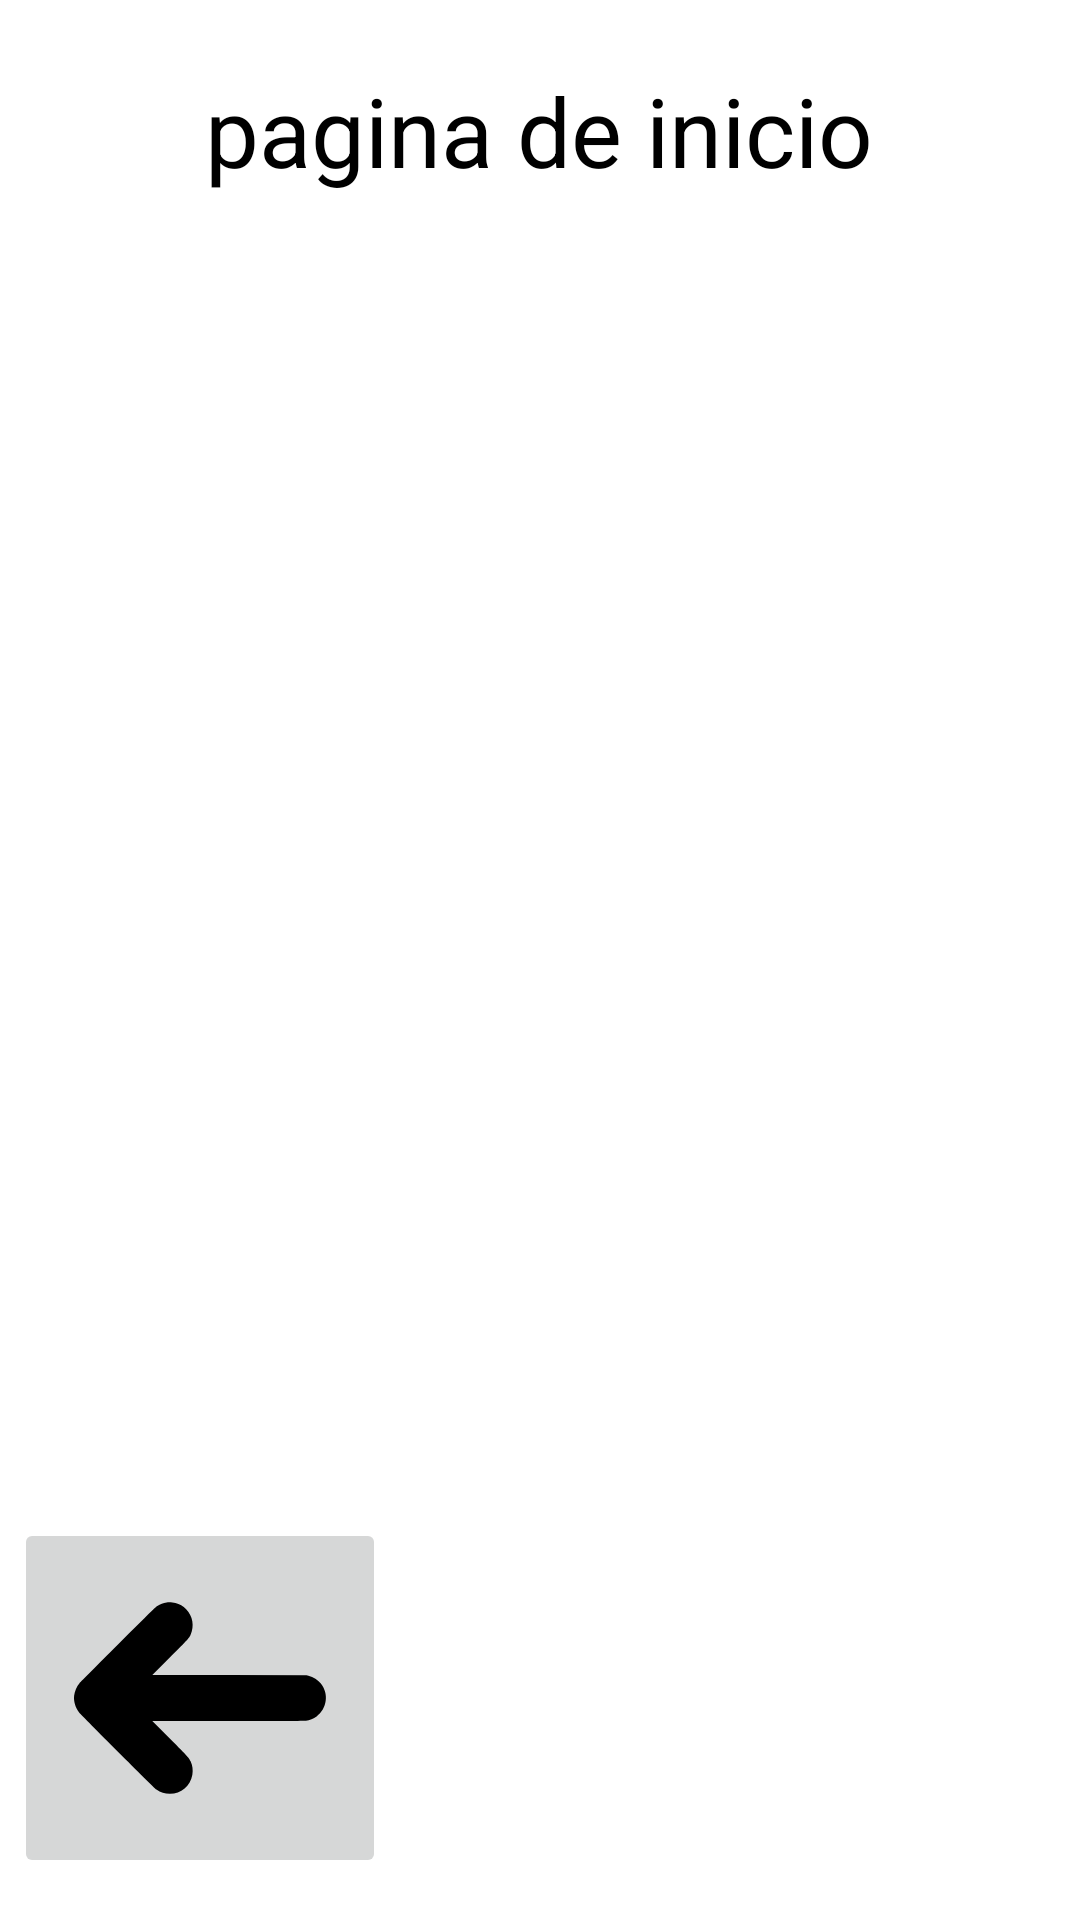

Named icons in this screenshot (1080×1920) and their centers, point (x, y):
flechaf: point (200, 1698)
